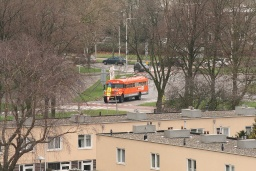bus: (102, 73, 151, 105)
